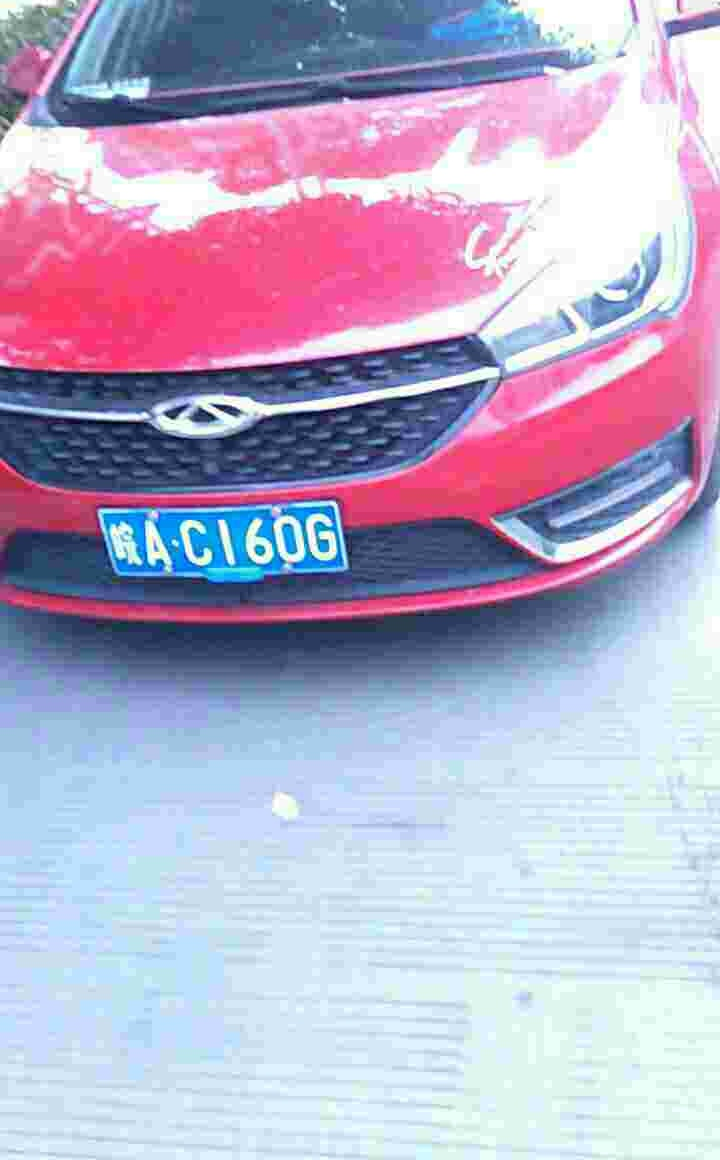plate: (96, 500, 112, 582)
